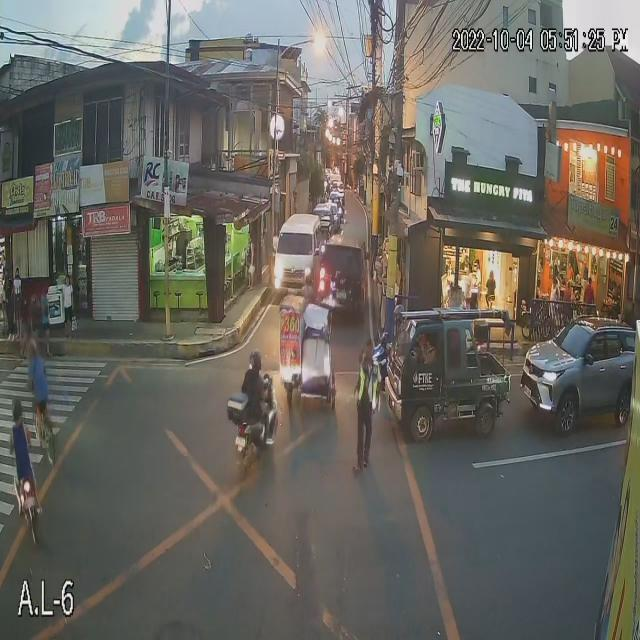helmet: (7, 394, 30, 427), (242, 350, 266, 378), (393, 303, 411, 324)
motorcycle: (14, 478, 56, 552), (362, 351, 423, 398)
rider: (238, 371, 270, 429), (392, 325, 413, 368)
